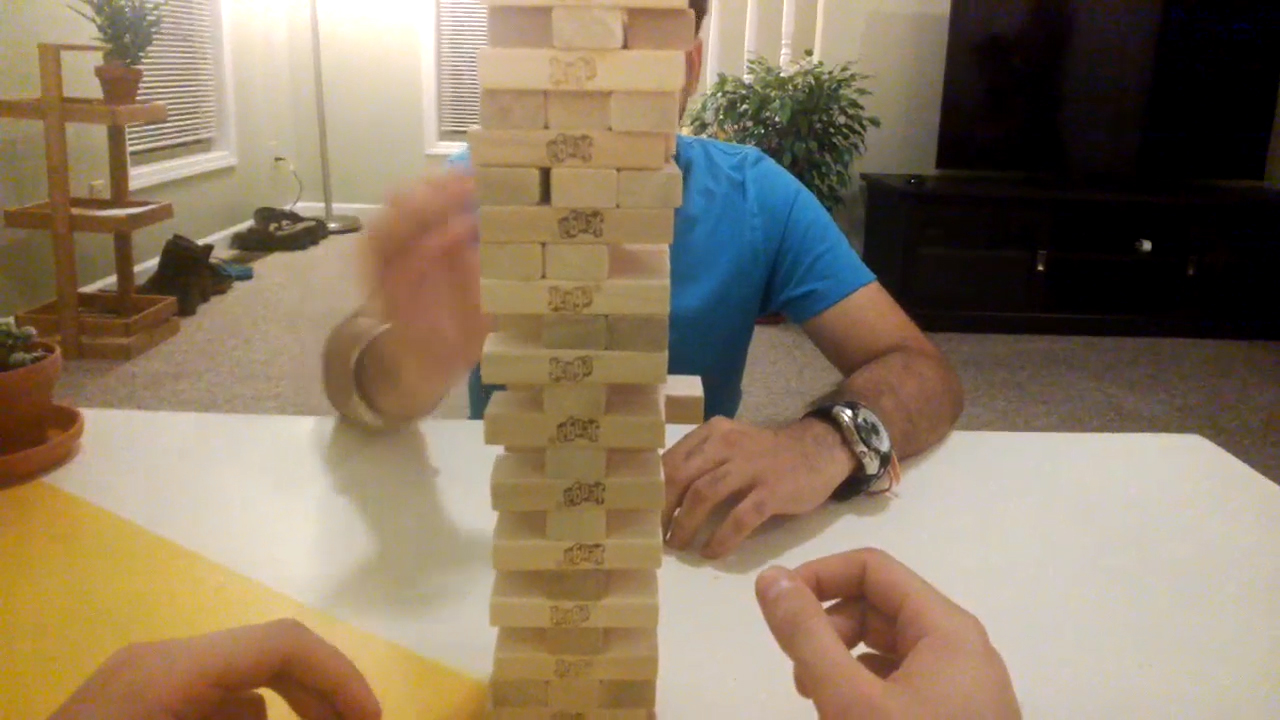hand: (759, 549, 1020, 717), (52, 622, 378, 718), (663, 419, 840, 549), (367, 171, 481, 363)
